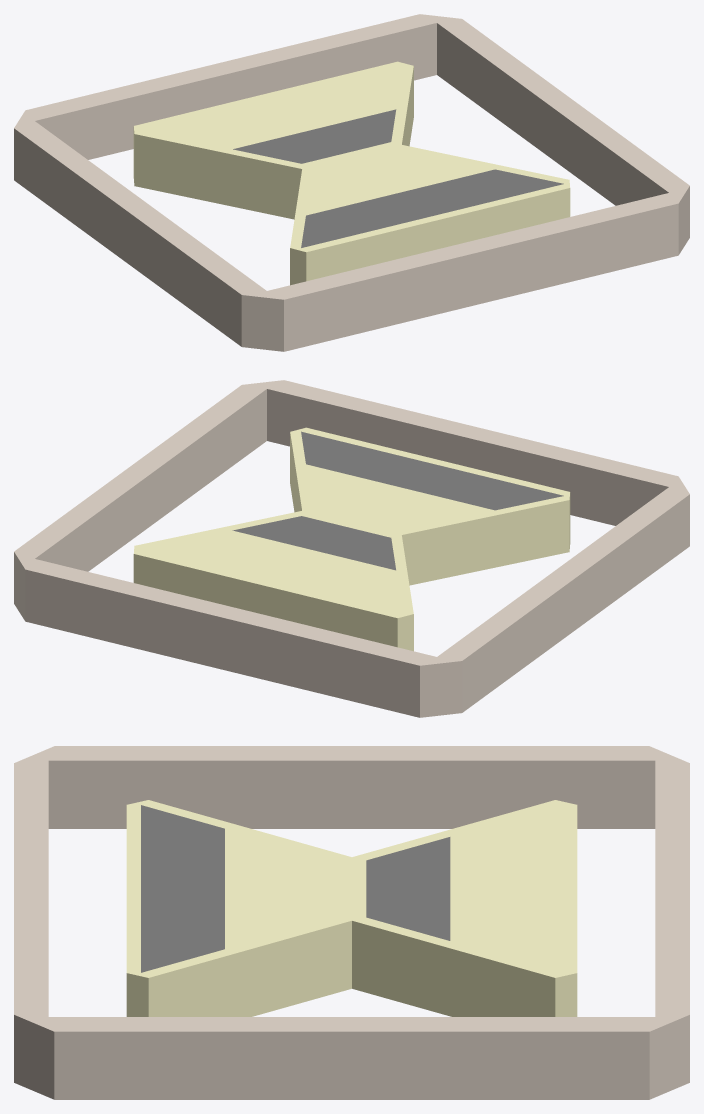
Rendered from bonus_time.glb.
3 views of the same model, one above another, from view 1: azimuth 30°, elevation 25°; view 2: azimuth 150°, elevation 25°; view 3: azimuth 270°, elevation 25° (orthographic). The views are drawn at different scales.
Parts seen in each view (by area): view 1: bonus_time; view 2: bonus_time; view 3: bonus_time.
Boxes of the visible parts, x1,y1,x2,y2 form: bonus_time: (14,14,689,351); bonus_time: (14,380,689,717); bonus_time: (14,746,689,1099).
Bounding box in the file's own units: 1.8 × 0.2 × 1.8.
1 material, 1 textured.
